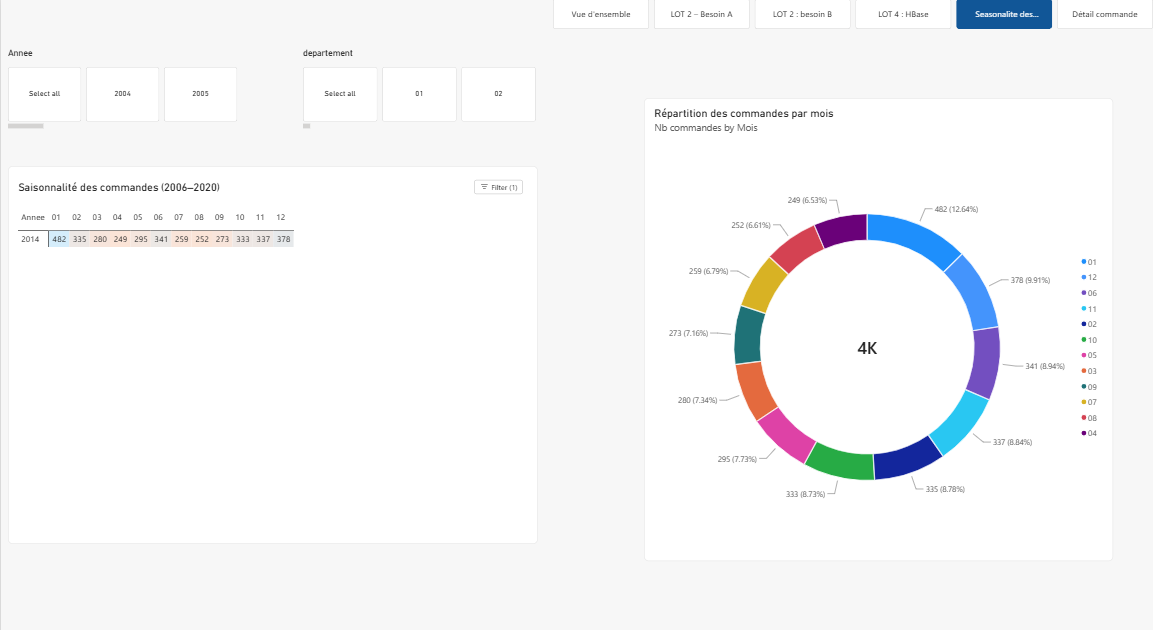

This screenshot's page, from the dashboard's own definition file:
{"tool":"powerbi","page":{"name":"Seasonalite des commandes","canvas":[1920,1080],"ordinal":4},"visuals":[{"type":"pivotTable","title":"Saisonnalité des commandes (2006–2020)","fields":{"Columns":["Calendrier.Mois"],"Rows":["Calendrier.Annee"],"Values":["lignes.Nb commandes"]},"box":[11.7,278.3,883.4,630.1],"z":0},{"type":"donutChart","title":"Répartition des commandes par mois","fields":{"Category":["Calendrier.Mois"],"Y":["lignes.Nb commandes"]},"box":[1071.7,165,781.8,772.4],"z":1000},{"type":"advancedSlicerVisual","fields":{"Values":["Calendrier.Annee"]},"box":[11.7,81.7,383.3,136.7],"z":2000},{"type":"pageNavigator","box":[919.3,0,1000,50],"z":3000},{"type":"advancedSlicerVisual","fields":{"Values":["Clients.departement "]},"box":[503.3,81.7,390.9,136],"z":4000}]}

Visuals, with their boxes on the page's 1920x1080 design canvas (x1, y1, x2, y2). These are canvas units, not pixel positions in the 1153x630 screenshot, which may show the page scaled, cropped or inside an application window:
"Saisonnalité des commandes (2006–2020)" pivotTable: l=12, t=278, r=895, b=908
"Répartition des commandes par mois" donutChart: l=1072, t=165, r=1854, b=937
advancedSlicerVisual - Calendrier.Annee: l=12, t=82, r=395, b=218
pageNavigator: l=919, t=0, r=1919, b=50
advancedSlicerVisual - Clients.departement : l=503, t=82, r=894, b=218
